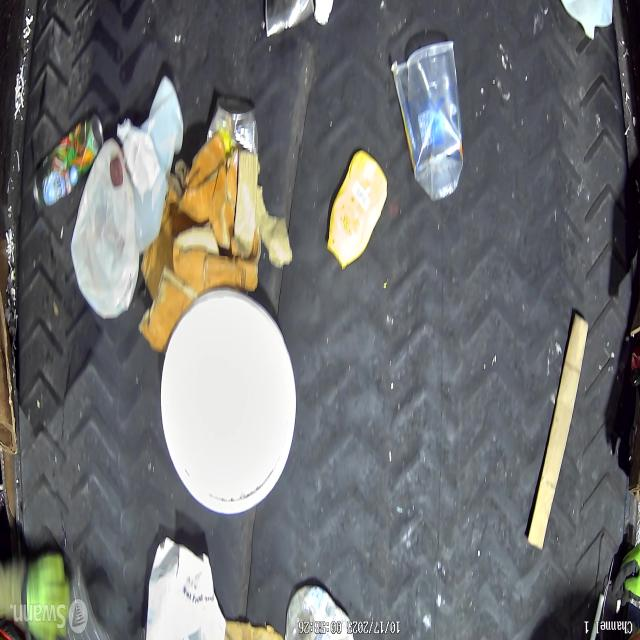can: (32, 114, 104, 210), (264, 0, 314, 41)
milk_jug: (72, 138, 138, 320), (136, 74, 183, 254), (554, 0, 616, 38)
non_white_jug: (327, 150, 387, 270)
